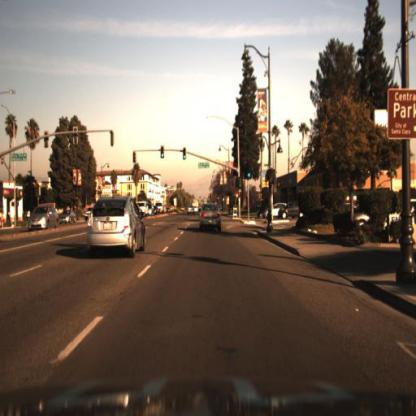car: (89, 194, 145, 260), (27, 207, 58, 233), (201, 198, 222, 227), (278, 200, 303, 220), (186, 200, 198, 216)
trafficLight: (133, 148, 138, 164)
trafficLight-Green: (249, 156, 257, 179), (183, 137, 189, 156), (159, 141, 166, 157), (161, 145, 166, 162)
